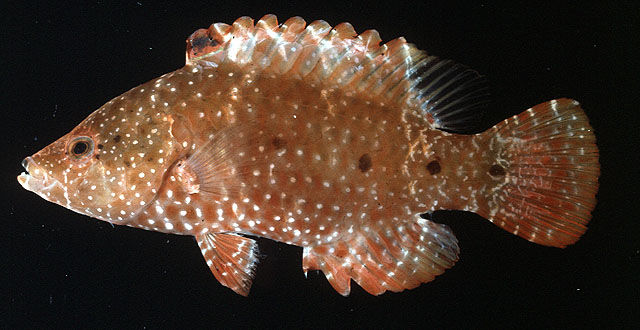fish: (17, 16, 600, 297)
